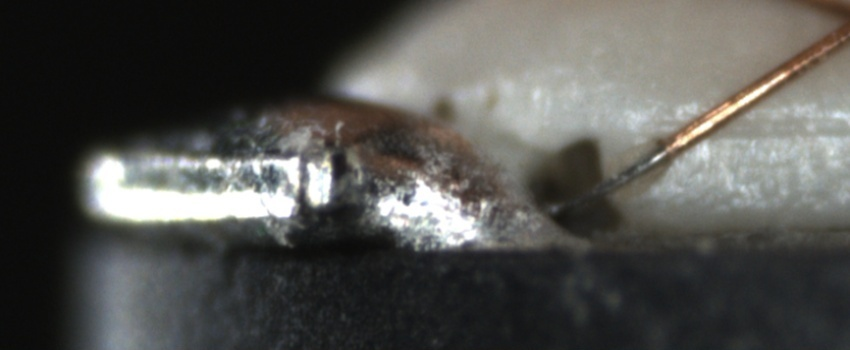DL: (654, 97, 849, 162)
TS: (540, 146, 669, 215)
TTCW: (546, 103, 715, 216)
